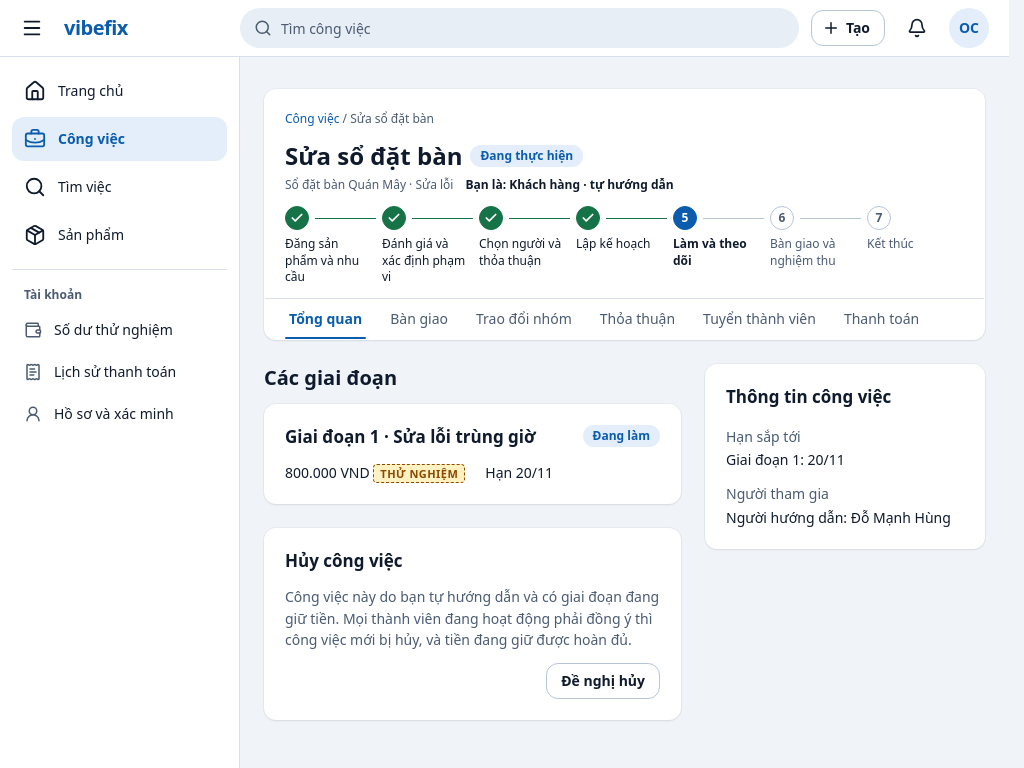
Test: JOB-1 cancellation of a Self-mentored Job (Story 25.7, R14, R56, R57) › asks the Customer to confirm a proposal that waits for the members, with no date before it is sent
Expected: the text "Mọi thành viên đang hoạt động phải đồng ý" is shown, 285,587 -> 659,649
Click the button "Đề nghị hủy" at (603,681), box 546,663 -> 660,699
(page scrolled)
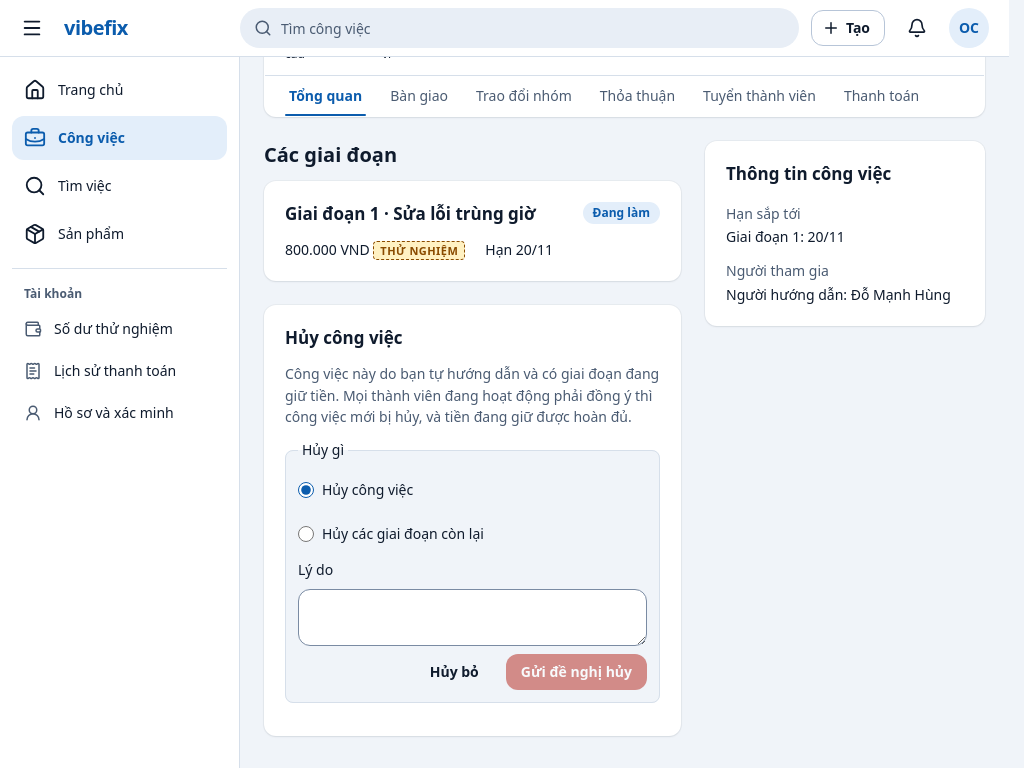
Type "Không còn cần nữa" into the text box labelled "Lý do" at (472,617), box 298,588 -> 647,646
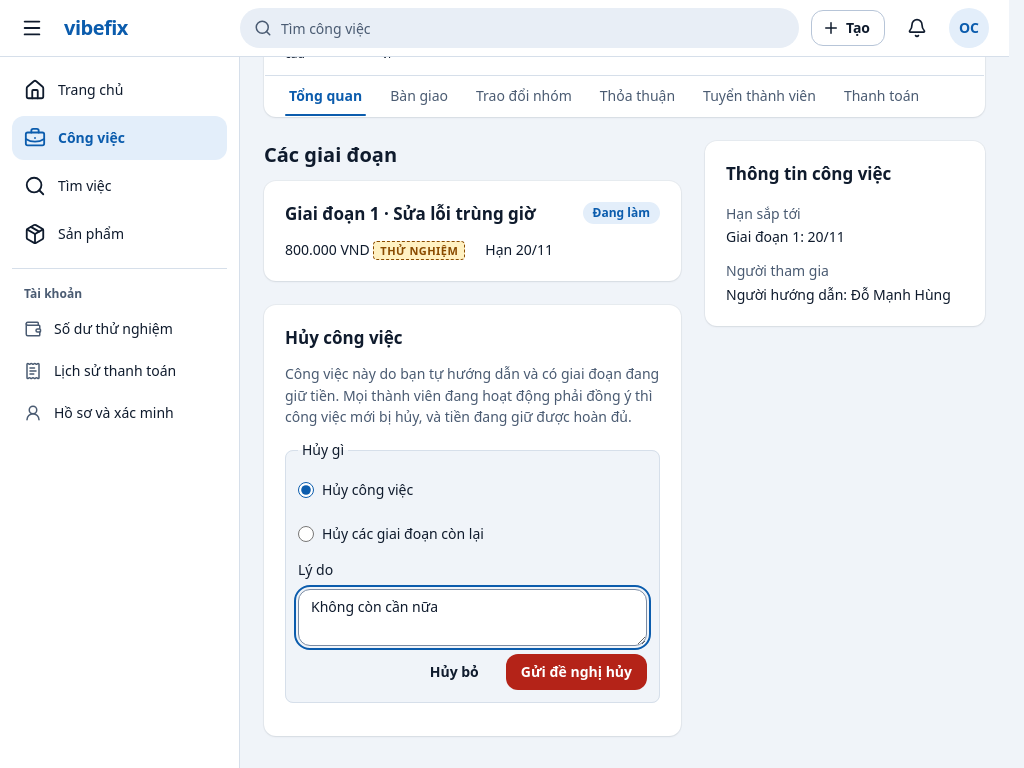
Click the button "Gửi đề nghị hủy" at (576,672), box 506,654 -> 647,690
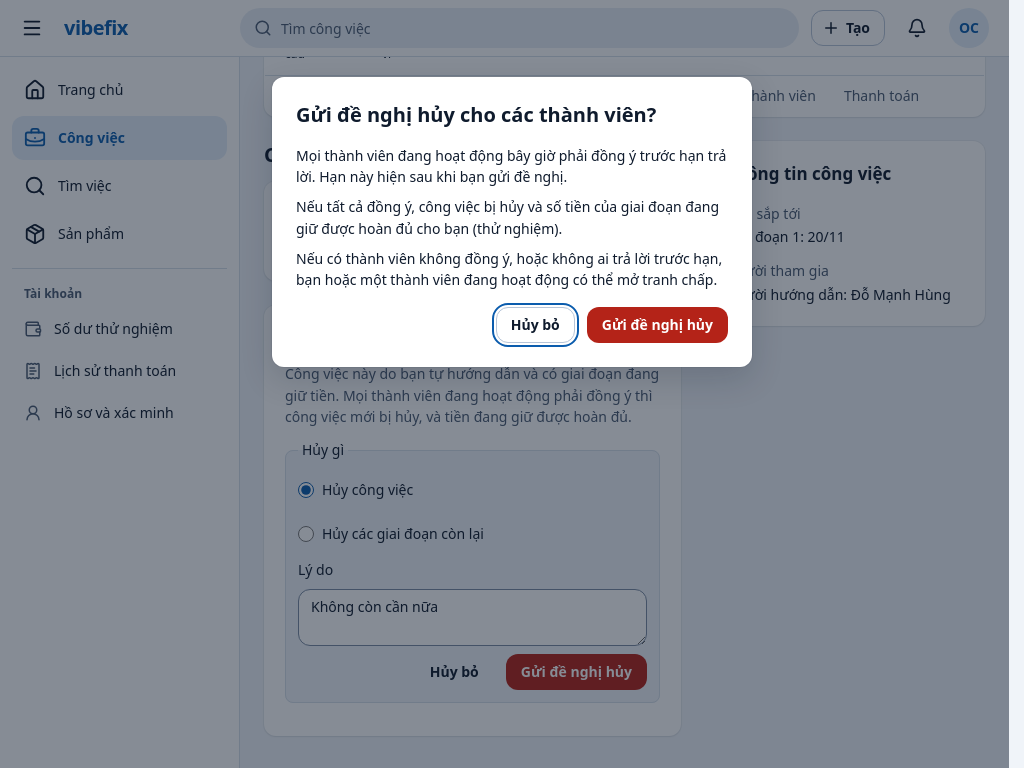
Result: the text "Mọi thành viên đang hoạt động bây giờ phải đồng ý" is shown at 296,146 -> 726,186
Result: the text "hoàn đủ cho bạn" is shown at 296,197 -> 719,238
Result: the text "mở tranh chấp" is shown at 296,248 -> 722,289
Click the button "Gửi đề nghị hủy" at (657,325), box 587,307 -> 728,343
(page scrolled)
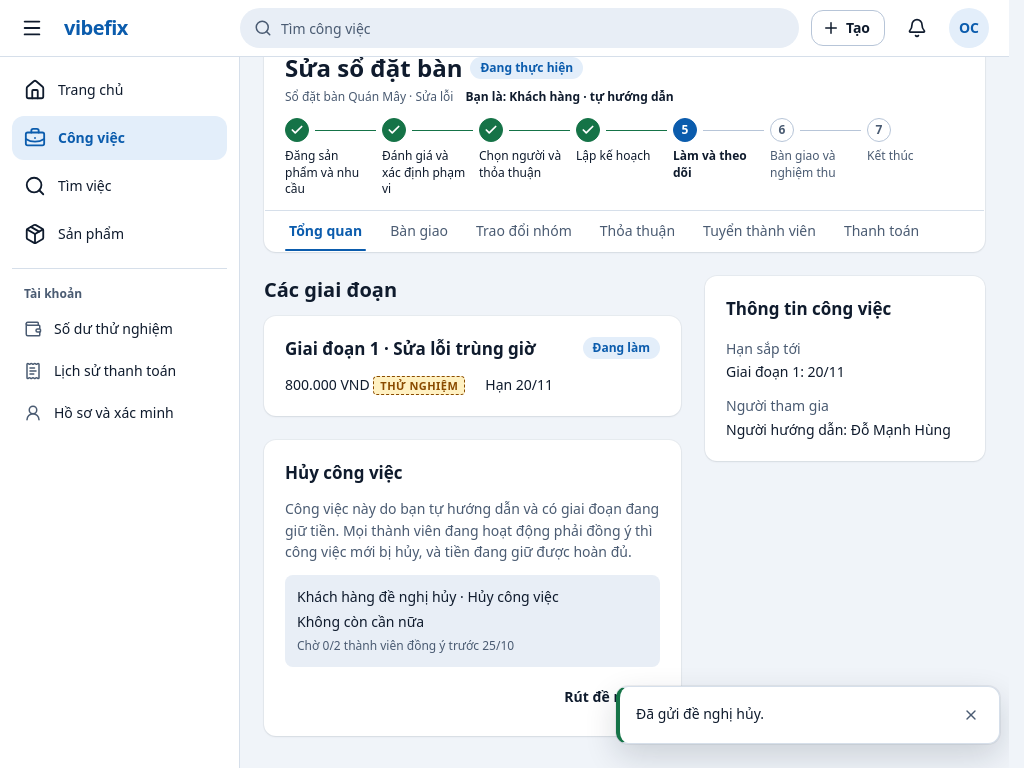
Result: the text "Chờ 0/2 thành viên đồng ý trước 25/10" is shown at 297,637 -> 514,654
